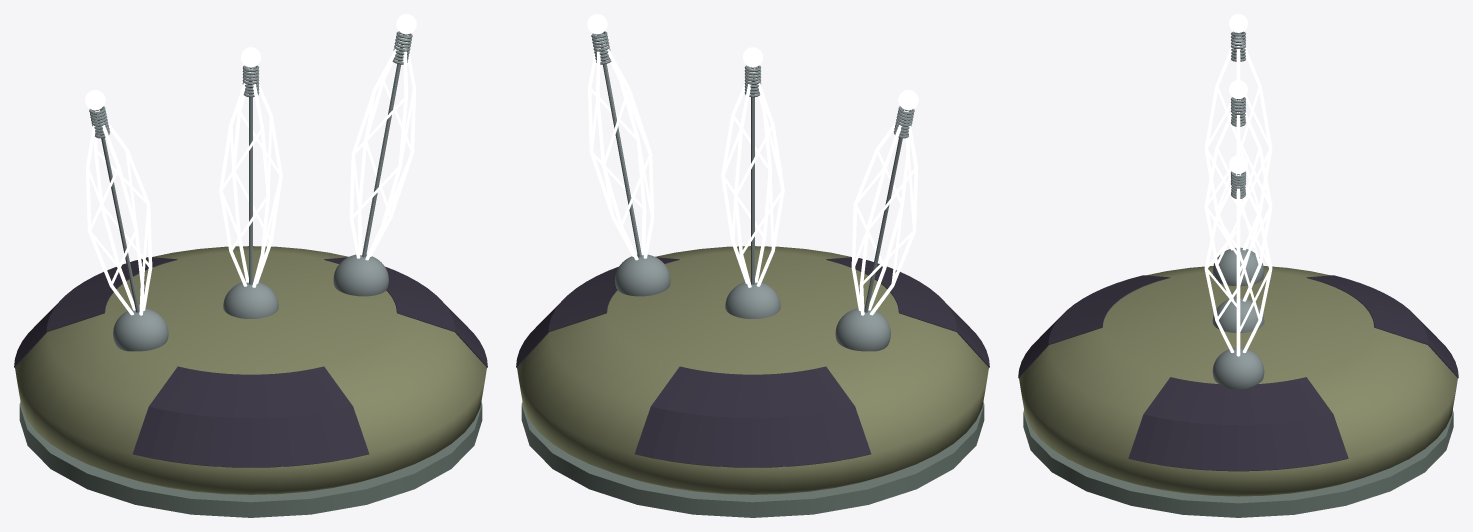
Rendered from screen-generator.glb.
3 views of the same model, side by side, from view 1: azimuth 30°, elevation 25°; view 2: azimuth 150°, elevation 25°; view 3: azimuth 270°, elevation 25° (orthographic). The views are drawn at different scales.
Visible parts, largest first — view 1: Research low olive screen dome, Research broad dark screen cover 2, Foundation drum, Research broad dark screen cover 1, Research broad dark screen cover 0, Research phase oscillator 0, Research phase oscillator 2, Research phase oscillator 1, Research central mast conductor 2, Research central mast conductor 0, Research central mast conductor 1; view 2: Research low olive screen dome, Research broad dark screen cover 1, Foundation drum, Research broad dark screen cover 2, Research broad dark screen cover 0, Research phase oscillator 0, Research phase oscillator 2, Research phase oscillator 1, Research central mast conductor 2, Research central mast conductor 0, Research central mast conductor 1; view 3: Research low olive screen dome, Research broad dark screen cover 0, Foundation drum, Research broad dark screen cover 1, Research broad dark screen cover 2, Research phase oscillator 2, Research phase oscillator 0, Research phase oscillator 1.
Boxes of the visible parts, bbox=[...] form: Research low olive screen dome: bbox=[15, 246, 486, 494]; Research broad dark screen cover 2: bbox=[132, 366, 369, 467]; Foundation drum: bbox=[19, 402, 482, 517]; Research broad dark screen cover 1: bbox=[14, 257, 177, 367]; Research broad dark screen cover 0: bbox=[324, 257, 487, 367]; Research phase oscillator 0: bbox=[113, 308, 168, 351]; Research phase oscillator 2: bbox=[333, 254, 388, 296]; Research phase oscillator 1: bbox=[223, 281, 278, 318]; Research central mast conductor 2: bbox=[362, 34, 406, 257]; Research central mast conductor 0: bbox=[95, 109, 139, 312]; Research central mast conductor 1: bbox=[249, 67, 252, 284]; Research low olive screen dome: bbox=[517, 246, 988, 494]; Research broad dark screen cover 1: bbox=[634, 366, 871, 467]; Foundation drum: bbox=[521, 402, 984, 517]; Research broad dark screen cover 2: bbox=[826, 257, 989, 367]; Research broad dark screen cover 0: bbox=[516, 257, 679, 367]; Research phase oscillator 0: bbox=[835, 308, 890, 351]; Research phase oscillator 2: bbox=[615, 254, 670, 296]; Research phase oscillator 1: bbox=[725, 281, 780, 318]; Research central mast conductor 2: bbox=[597, 34, 641, 257]; Research central mast conductor 0: bbox=[864, 109, 908, 312]; Research central mast conductor 1: bbox=[751, 67, 754, 284]; Research low olive screen dome: bbox=[1019, 266, 1457, 496]; Research broad dark screen cover 0: bbox=[1128, 377, 1348, 471]; Foundation drum: bbox=[1023, 410, 1453, 517]; Research broad dark screen cover 1: bbox=[1306, 275, 1458, 378]; Research broad dark screen cover 2: bbox=[1018, 275, 1170, 378]; Research phase oscillator 2: bbox=[1212, 348, 1264, 389]; Research phase oscillator 0: bbox=[1212, 247, 1264, 285]; Research phase oscillator 1: bbox=[1212, 297, 1264, 332].
Size of the model in its own units: 2.04 by 1.77 by 2.05.
